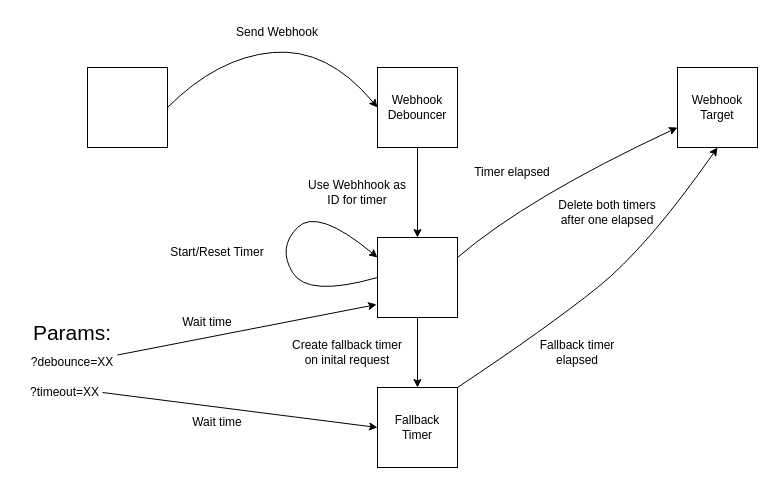
This 775x485 diagram has some shape labels left out. Each missing label, with the box of its shape:
Webhook Sender: (86, 66, 168, 148)
Webhook Timer: (376, 236, 458, 318)
